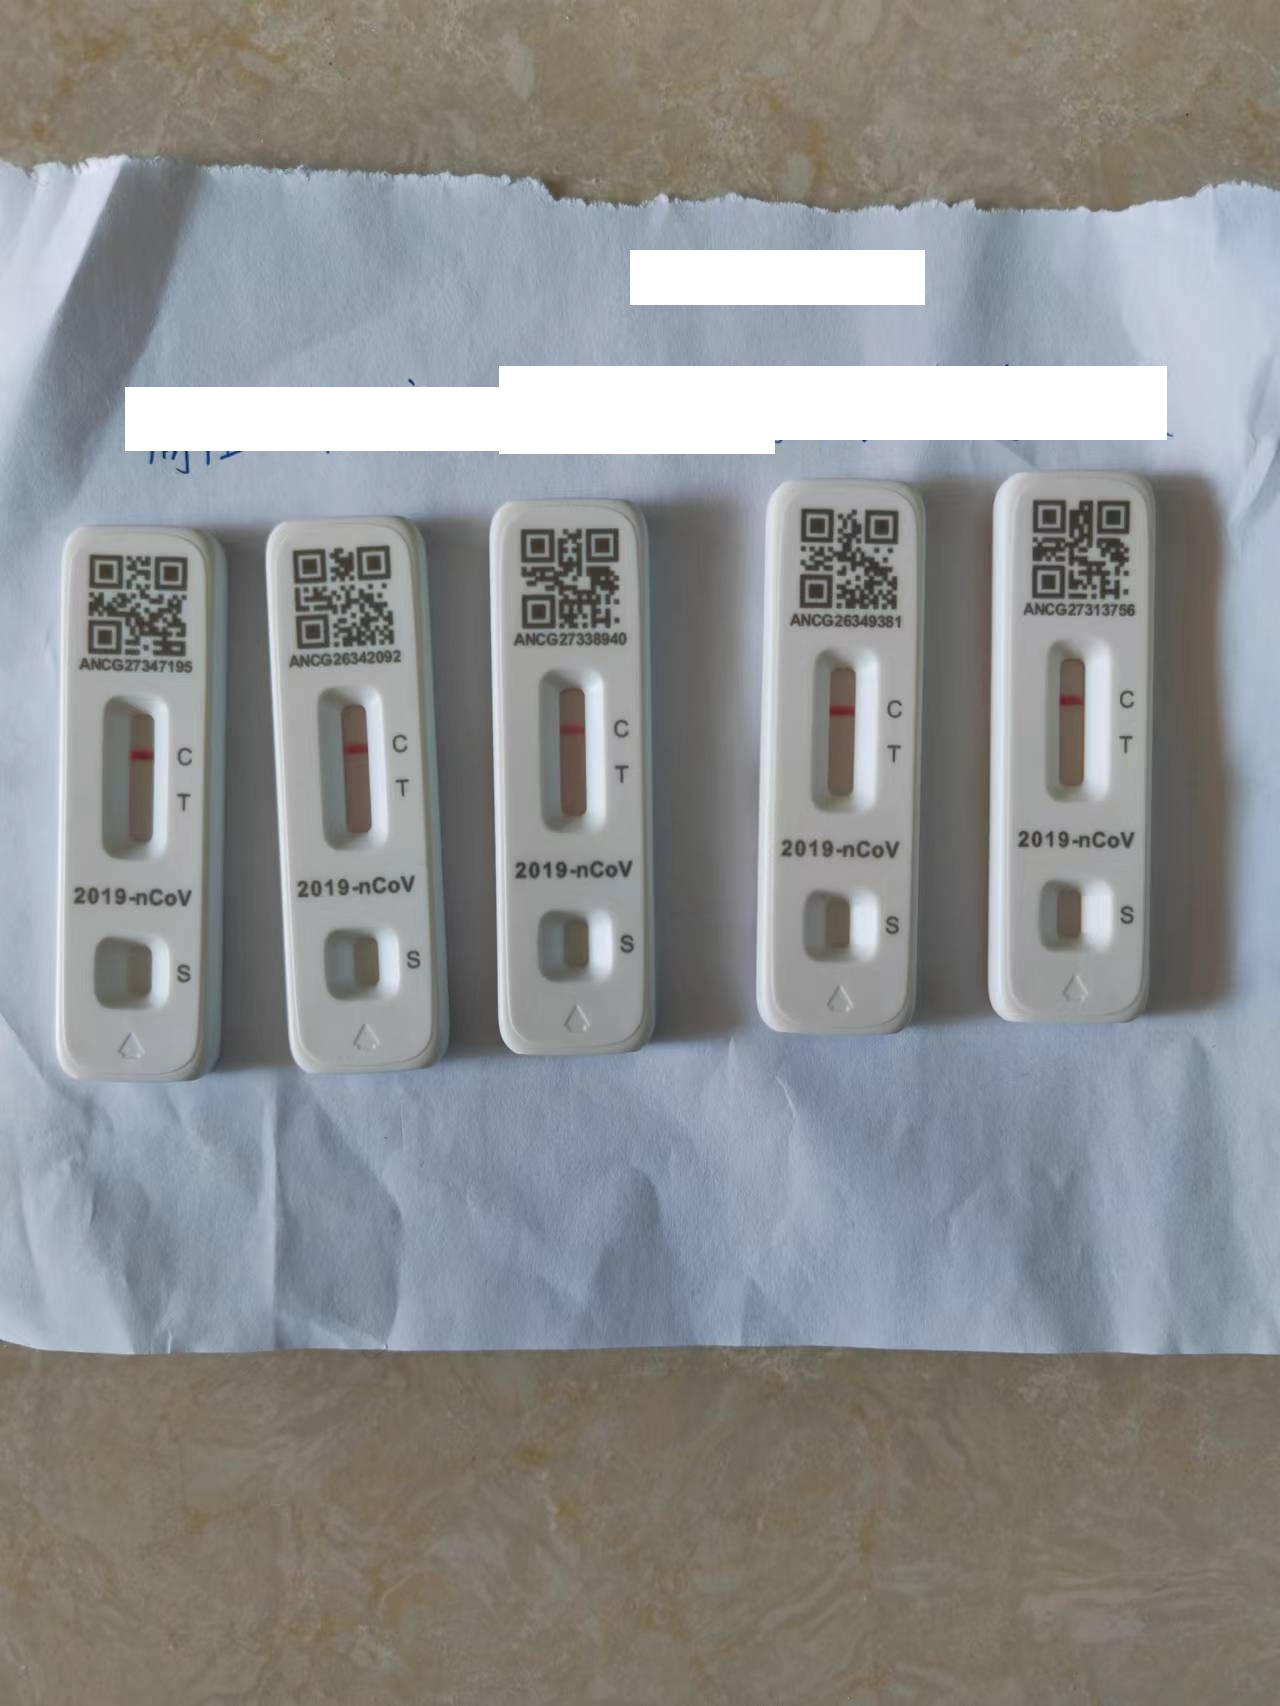negative: (99, 692, 169, 862), (316, 686, 387, 848), (809, 645, 877, 812), (536, 665, 602, 831), (1043, 635, 1103, 803)
